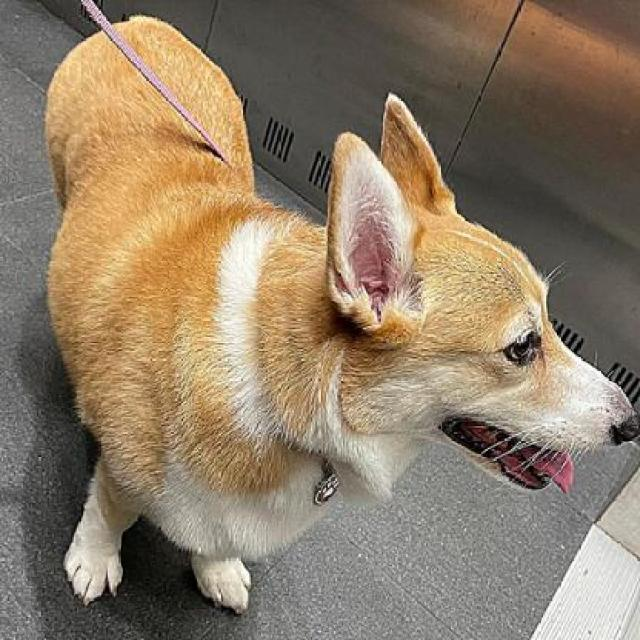Dog: (43, 8, 639, 623)
